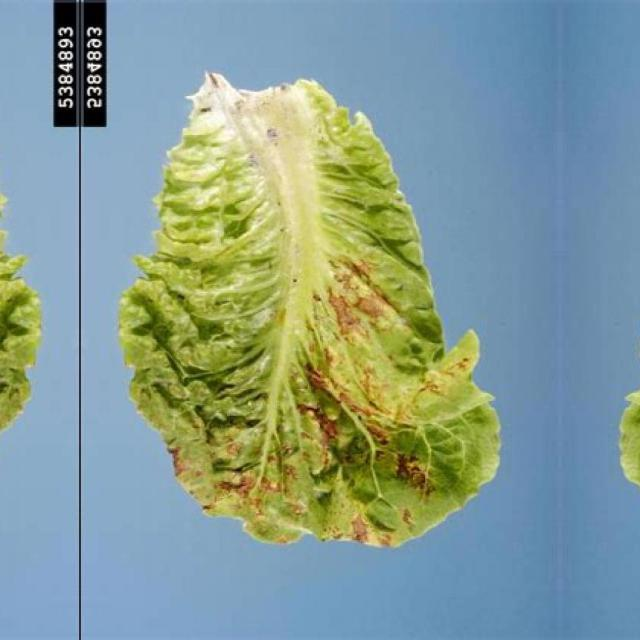healthy: (120, 64, 504, 550), (0, 64, 40, 549), (615, 64, 640, 549)
